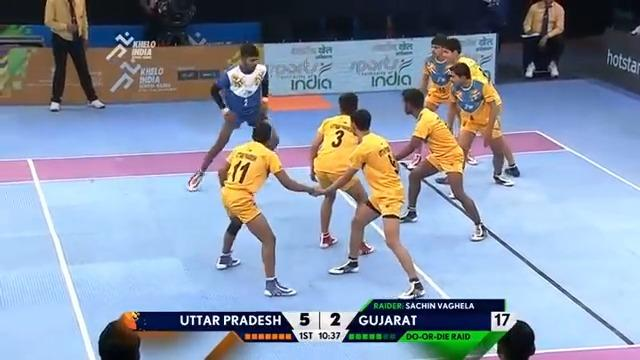Player: (316, 108, 425, 299), (215, 119, 324, 297), (392, 87, 488, 241), (435, 60, 519, 192), (308, 92, 375, 255), (43, 0, 105, 111)
Raider: (186, 43, 279, 192)
referee: (520, 0, 565, 78), (143, 0, 200, 46)
